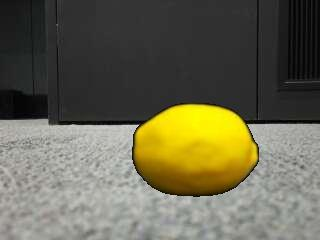lemon: (134, 106, 258, 197)
